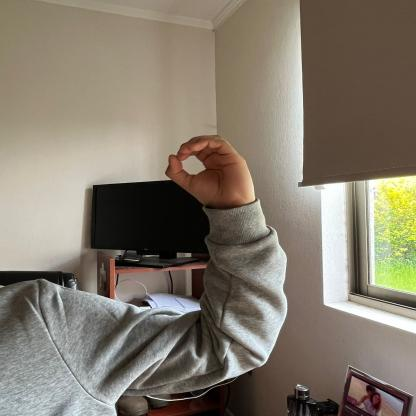O: (165, 130, 257, 211)
